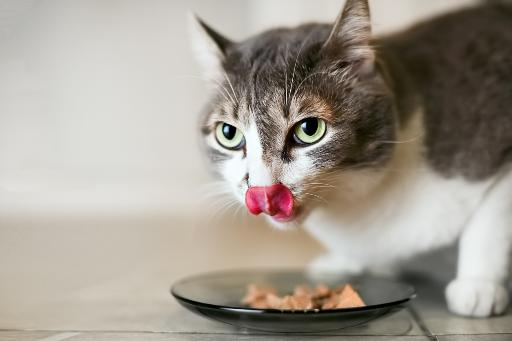cat_eating: (171, 0, 512, 333)
